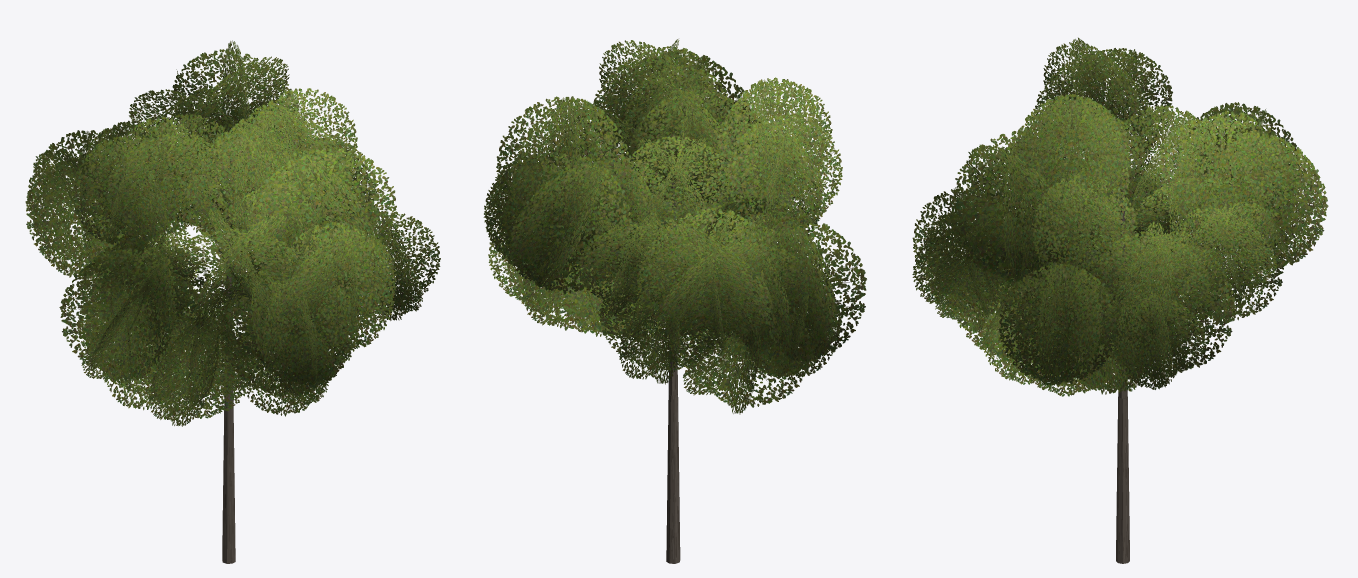
The model's file is tree_honeylocust_lod1.glb.
3 renders of one model, left to right at view 1: azimuth 30°, elevation 25°; view 2: azimuth 150°, elevation 25°; view 3: azimuth 270°, elevation 25°, orthographic. The views are drawn at different scales.
Parts seen in each view (by area): view 1: tree_honeylocust_crown, tree_honeylocust_trunk-col; view 2: tree_honeylocust_crown, tree_honeylocust_trunk-col; view 3: tree_honeylocust_crown, tree_honeylocust_trunk-col.
Part boxes in pixels (box(x1,y1,x2,y2)): tree_honeylocust_crown: box(25, 40, 440, 426); tree_honeylocust_trunk-col: box(222, 196, 235, 563); tree_honeylocust_crown: box(483, 39, 866, 414); tree_honeylocust_trunk-col: box(666, 183, 680, 563); tree_honeylocust_crown: box(912, 37, 1328, 396); tree_honeylocust_trunk-col: box(1116, 190, 1129, 563).
Size of the model in its own units: 9.65 by 12.42 by 10.23.
Materials: 2 (2 with a texture image).
